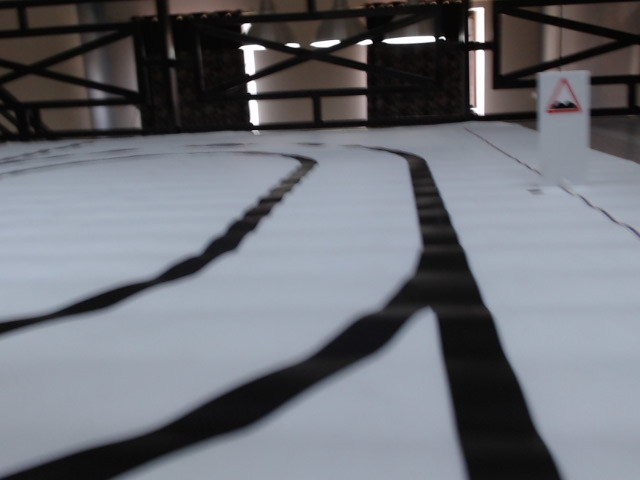Nerov: (545, 79, 584, 115)
